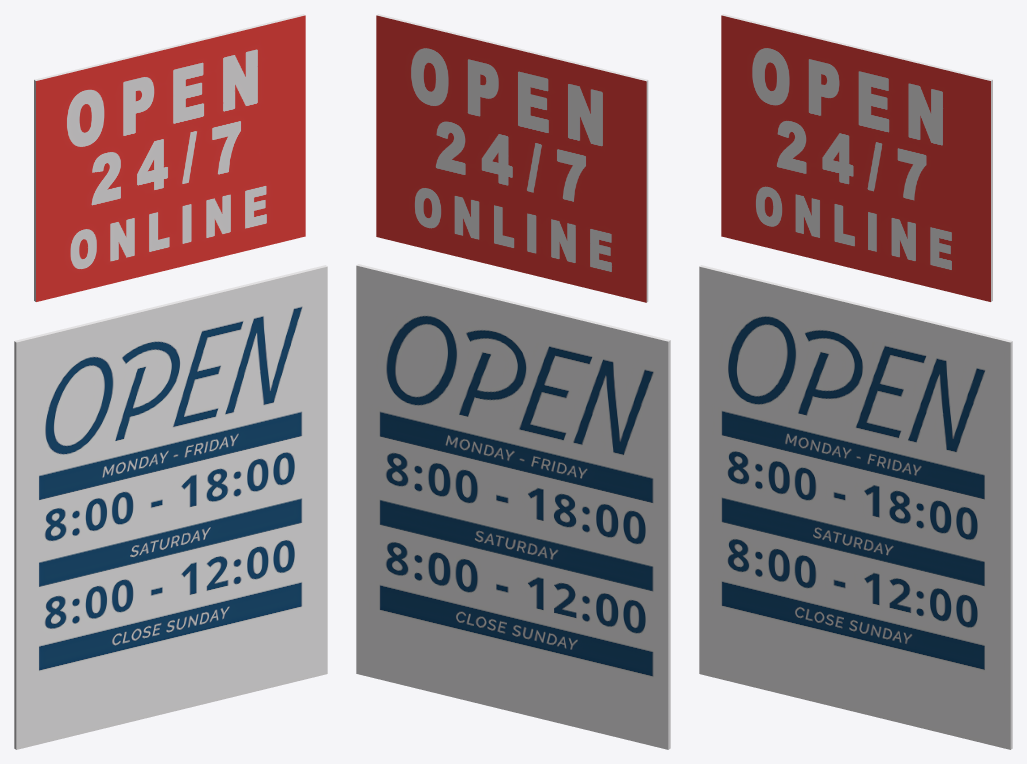
The model's file is Door posters.fbx.
3 renders of one model, left to right at view 1: azimuth 30°, elevation 25°; view 2: azimuth 150°, elevation 25°; view 3: azimuth 330°, elevation 25°, orthographic.
Visible parts, largest first — view 1: door posters; view 2: door posters; view 3: door posters.
Boxes of the visible parts, x1=… form: door posters: x1=14, y1=14, x2=327, y2=749; door posters: x1=356, y1=14, x2=670, y2=749; door posters: x1=699, y1=14, x2=1012, y2=749.
Bounding box in the file's own units: 41.85 × 85.12 × 0.7245.
Materials: 1 (1 with a texture image).
